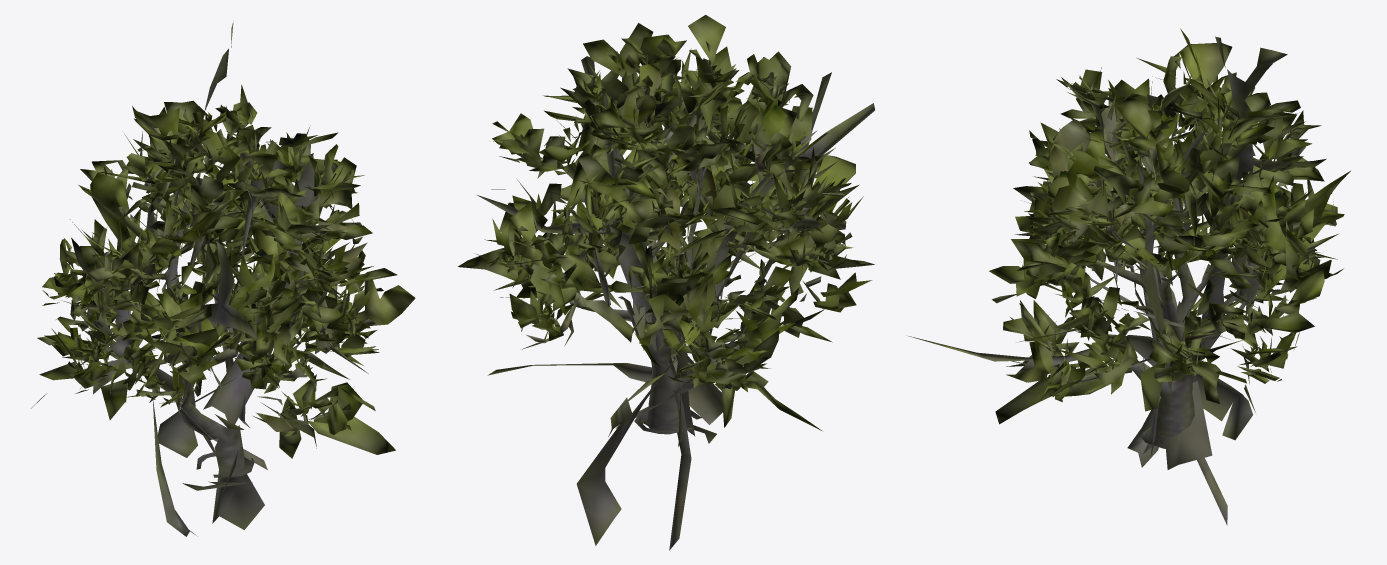
File: tree_12_oak_green.glb
3 renders of one model, left to right at view 1: azimuth 30°, elevation 25°; view 2: azimuth 150°, elevation 25°; view 3: azimuth 270°, elevation 25°, orthographic. The views are drawn at different scales.
Visible parts, largest first — view 1: geometry_0; view 2: geometry_0; view 3: geometry_0.
Part boxes in pixels (box(x1,y1,x2,y2)): geometry_0: box(31, 22, 415, 536); geometry_0: box(458, 15, 874, 550); geometry_0: box(908, 28, 1350, 525).
Bounding box in the file's own units: 0.7549 × 1 × 0.8209.
1 material, 1 textured.
